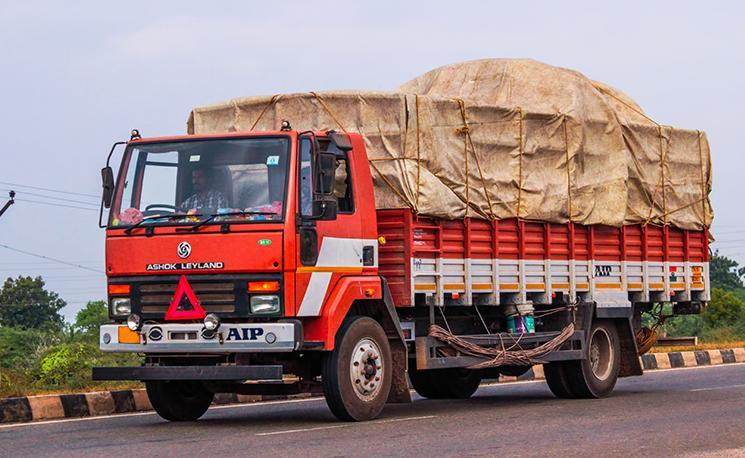truck: (72, 53, 724, 403)
